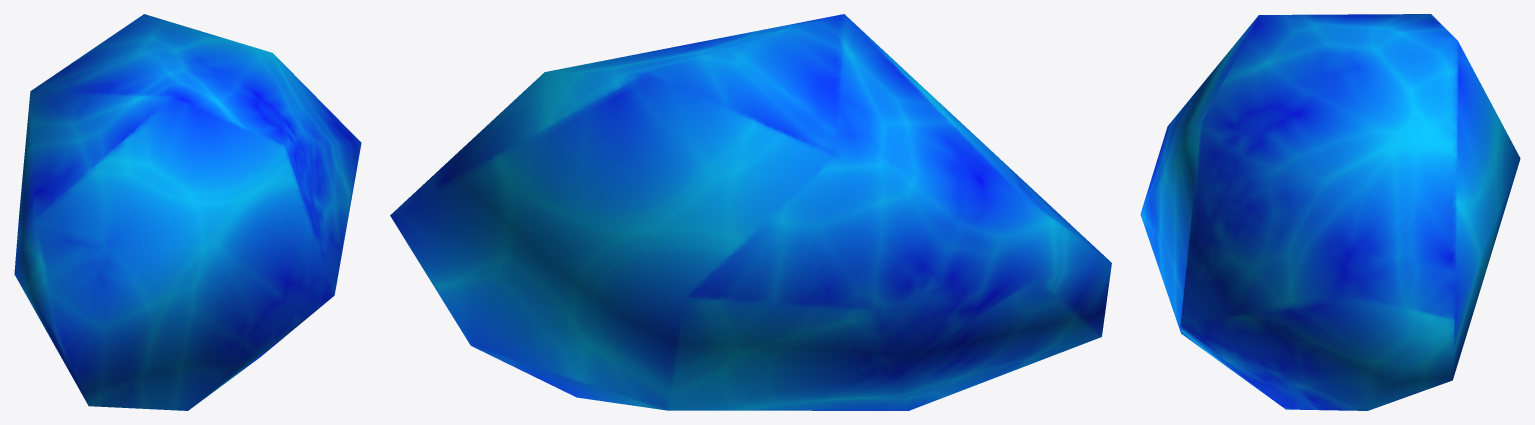
The model's file is WindstoneParticleLP.fbx.
3 renders of one model, left to right at view 1: azimuth 30°, elevation 25°; view 2: azimuth 150°, elevation 25°; view 3: azimuth 270°, elevation 25°, orthographic. The views are drawn at different scales.
Parts seen in each view (by area): view 1: WindstoneParticle.031; view 2: WindstoneParticle.031; view 3: WindstoneParticle.031.
Part boxes in pixels (<box>): WindstoneParticle.031: <box>14,14,361,410</box>; WindstoneParticle.031: <box>390,14,1111,410</box>; WindstoneParticle.031: <box>1140,14,1520,410</box>.
Size of the model in its own units: 178 by 127 by 127.
